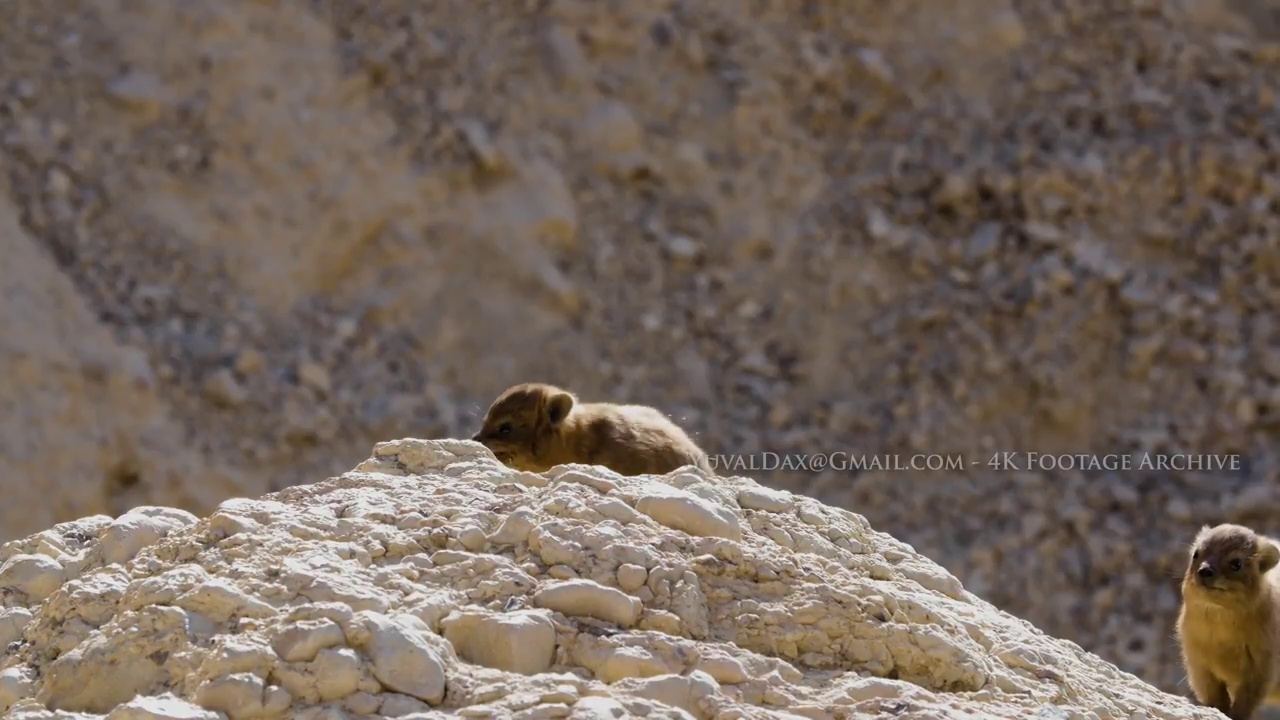Rock Hyrex: (471, 382, 716, 492), (1174, 524, 1280, 719)
